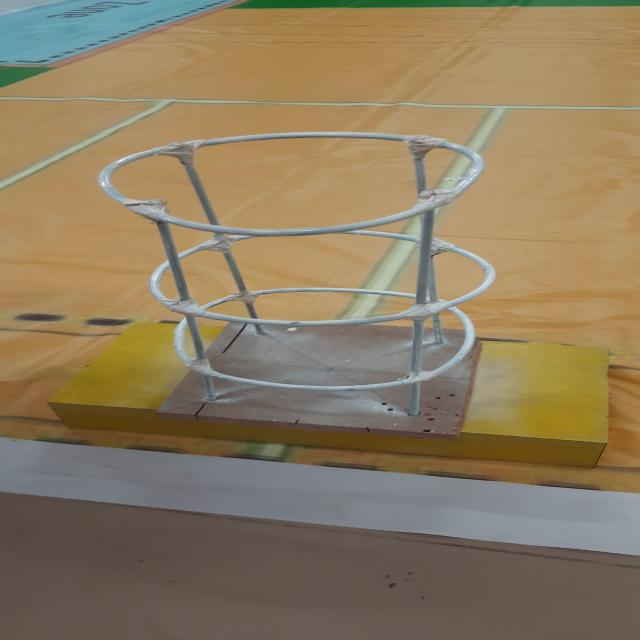silo: (71, 118, 539, 454)
